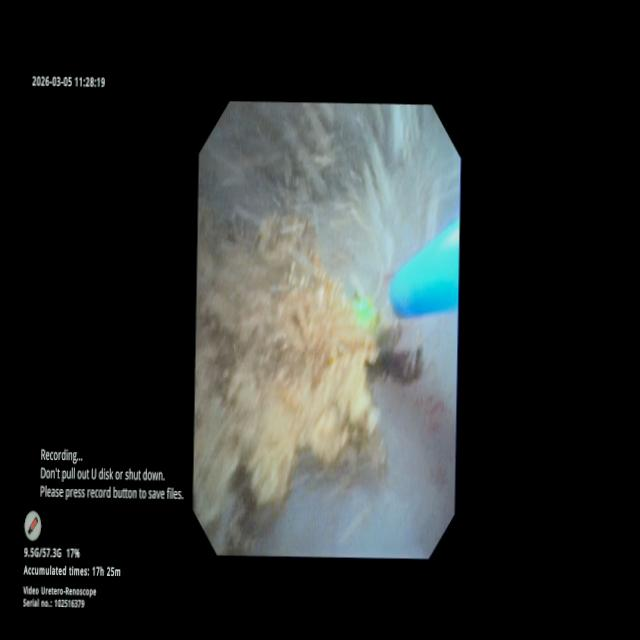laser_dot: (352, 295, 378, 330)
stone-new: (193, 215, 385, 538)
